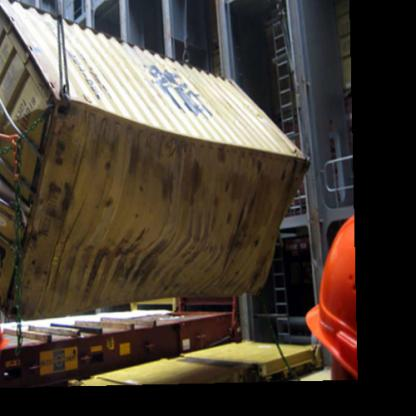Damage: (0, 83, 45, 236), (60, 232, 163, 297)
